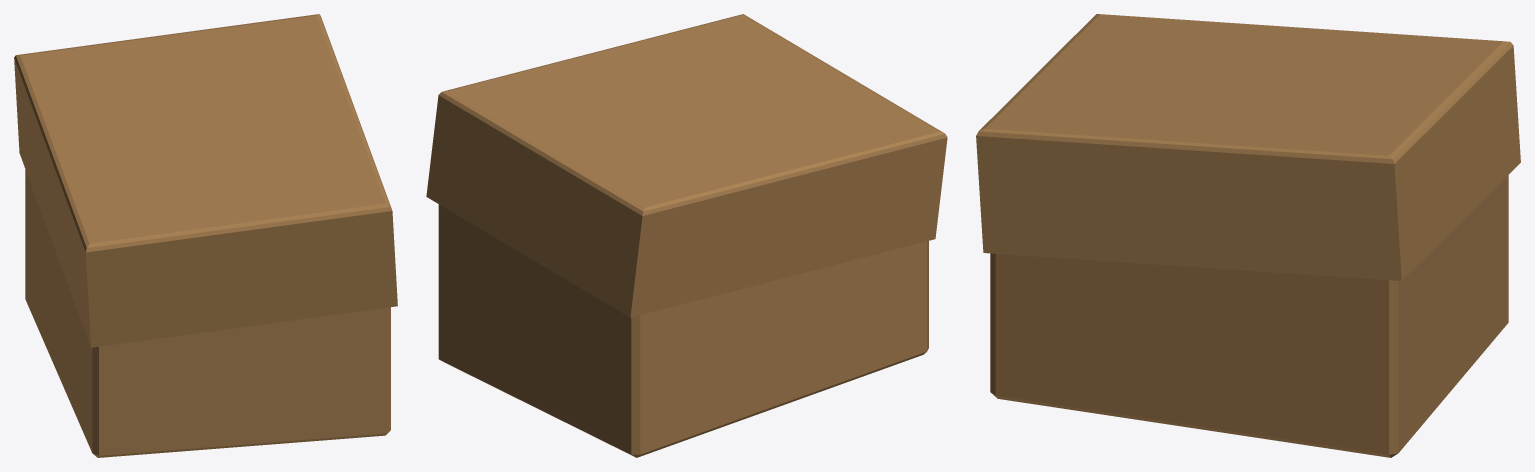
File: BoxUnderBed.fbx
3 views of the same model, side by side, from view 1: azimuth 30°, elevation 25°; view 2: azimuth 150°, elevation 25°; view 3: azimuth 270°, elevation 25° (orthographic). The views are drawn at different scales.
Visible parts, largest first — view 1: Under Bed Box; view 2: Under Bed Box; view 3: Under Bed Box.
Part boxes in pixels (x1,y1,x2,y2): Under Bed Box: (14, 14, 397, 457); Under Bed Box: (426, 14, 947, 457); Under Bed Box: (976, 14, 1520, 457).
Size of the model in its own units: 287 by 194 by 319.
